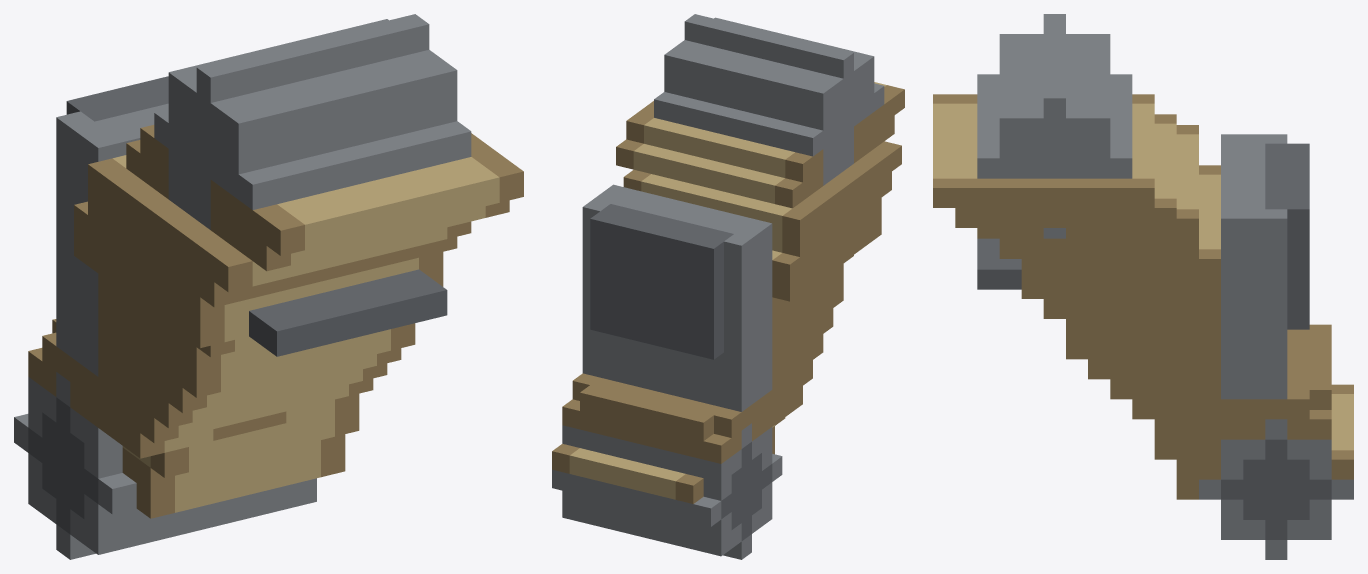
File: shin_r.glb
3 views of the same model, side by side, from view 1: azimuth 30°, elevation 25°; view 2: azimuth 150°, elevation 25°; view 3: azimuth 270°, elevation 25° (orthographic). The views are drawn at different scales.
Bounding box in the file's own units: 11 × 23 × 19.
